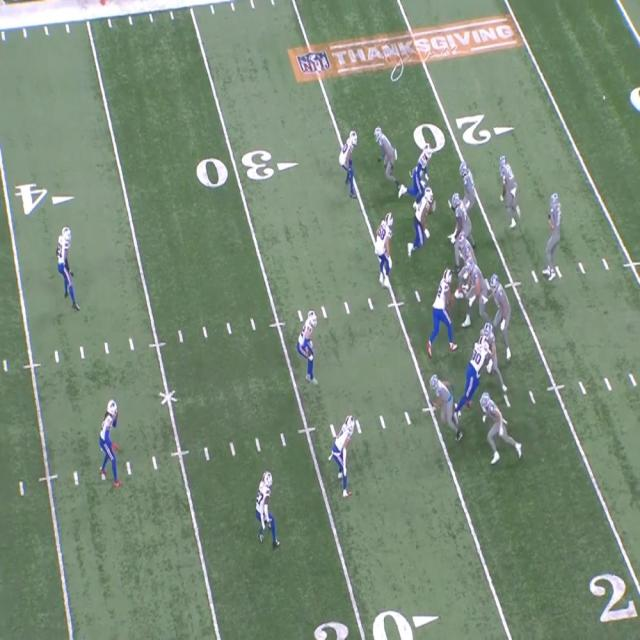center: (459, 255, 481, 307)
db: (332, 420, 354, 502), (101, 397, 121, 481), (258, 469, 274, 544), (344, 127, 362, 191), (57, 223, 71, 292)
lb: (378, 211, 396, 284), (301, 310, 317, 388)
qb: (547, 189, 561, 267)
skill: (484, 390, 511, 461), (431, 374, 456, 433), (375, 126, 396, 184), (501, 160, 517, 224)
